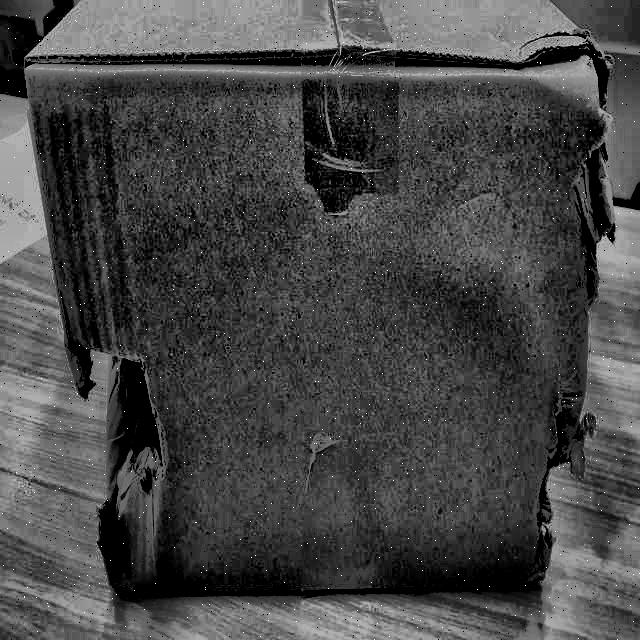box: (12, 0, 625, 601)
hole: (65, 334, 157, 590), (530, 384, 582, 578)
